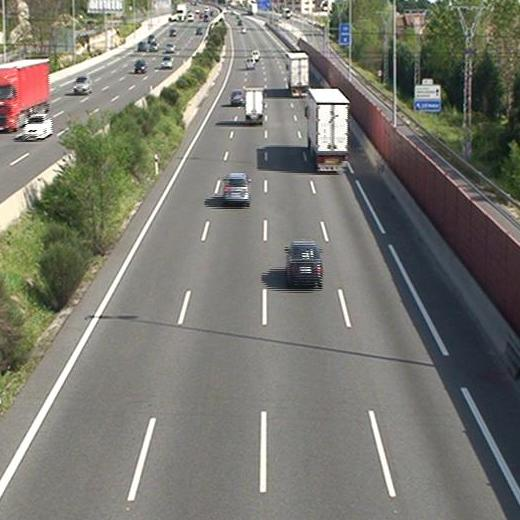car: (285, 242, 323, 288), (223, 172, 250, 205), (229, 89, 244, 104)
small-truck: (245, 88, 263, 124)
truck: (306, 88, 348, 171), (286, 53, 308, 97)
van: (245, 57, 255, 69), (252, 50, 260, 61)
